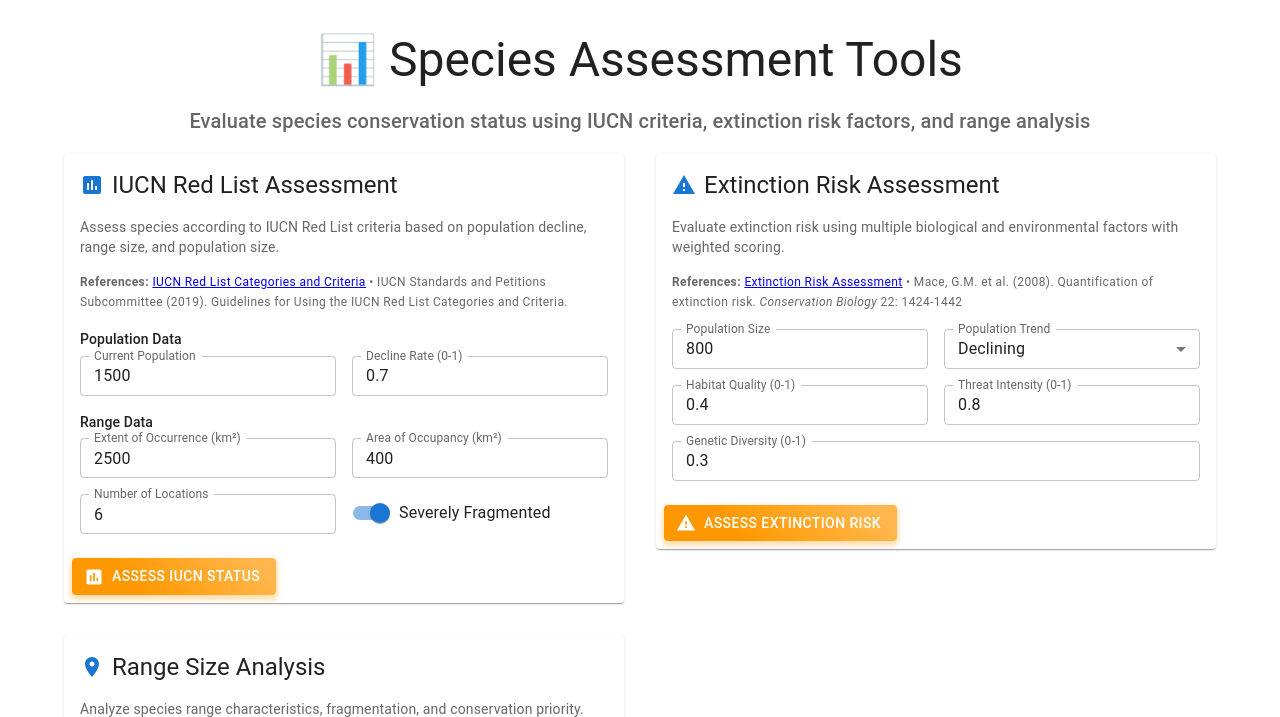
Test: SpeciesAssessment Component › handles API errors gracefully
Click the button "Assess IUCN Status" at (174, 577), box [72,558,276,595]
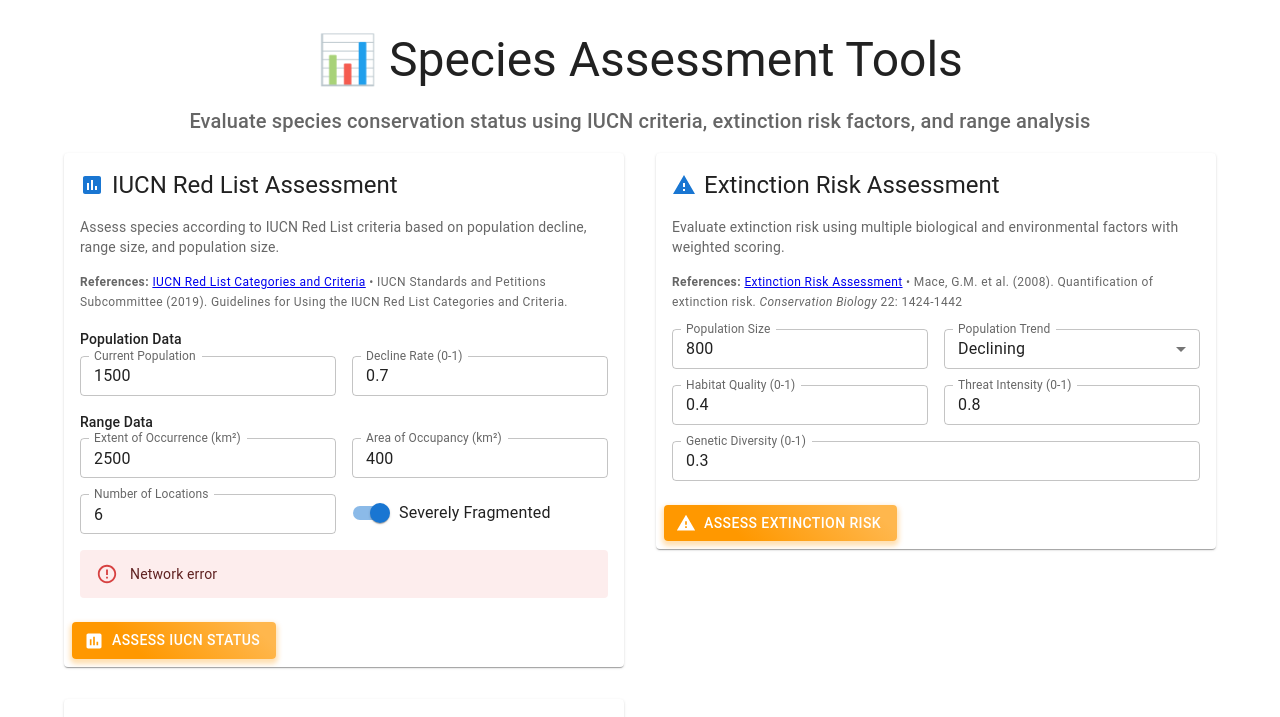
Result: the text "Network error" is shown at [130,566,217,582]
